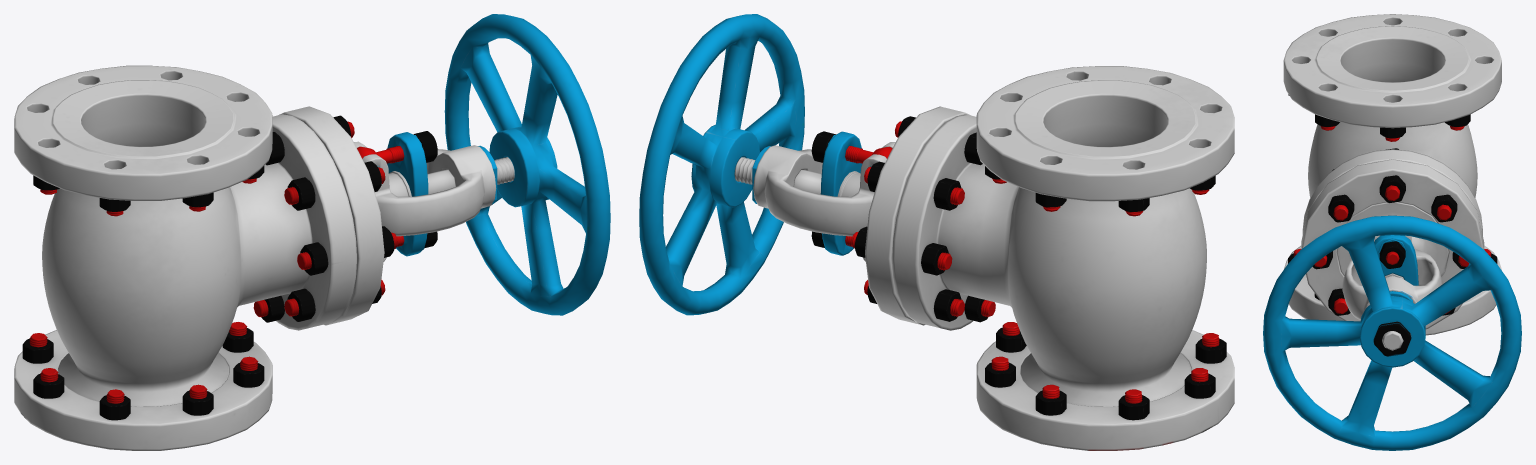
The picture shows the model from 3 angles, left to right: view 1: azimuth 30°, elevation 25°; view 2: azimuth 150°, elevation 25°; view 3: azimuth 270°, elevation 25°; orthographic projection. The views are drawn at different scales.
Visible parts, largest first — view 1: Industrial_Pipe_Valve_01.078, Industrial_Pipe_Valve_01.076, Industrial_Pipe_Valve_01.073, Industrial_Pipe_Valve_01.074, Industrial_Pipe_Valve_01.075, Industrial_Pipe_Valve_01.047, Industrial_Pipe_Valve_01.053, Industrial_Pipe_Valve_01.046, Industrial_Pipe_Valve_01.052, Industrial_Pipe_Valve_01.049, Industrial_Pipe_Valve_01.072, Industrial_Pipe_Valve_01.048 (+1 smaller); view 2: Industrial_Pipe_Valve_01.078, Industrial_Pipe_Valve_01.076, Industrial_Pipe_Valve_01.073, Industrial_Pipe_Valve_01.074, Industrial_Pipe_Valve_01.075, Industrial_Pipe_Valve_01.071, Industrial_Pipe_Valve_01.047, Industrial_Pipe_Valve_01.046, Industrial_Pipe_Valve_01.072, Industrial_Pipe_Valve_01.058, Industrial_Pipe_Valve_01.060, Industrial_Pipe_Valve_01.057 (+1 smaller); view 3: Industrial_Pipe_Valve_01.078, Industrial_Pipe_Valve_01.076, Industrial_Pipe_Valve_01.073, Industrial_Pipe_Valve_01.074, Industrial_Pipe_Valve_01.077, Industrial_Pipe_Valve_01.069, Industrial_Pipe_Valve_01.065, Industrial_Pipe_Valve_01.064, Industrial_Pipe_Valve_01.066, Industrial_Pipe_Valve_01.075, Industrial_Pipe_Valve_01.067.
Boxes of the visible parts, <box> form: Industrial_Pipe_Valve_01.078: <box>14,65,356,450</box>; Industrial_Pipe_Valve_01.076: <box>444,14,610,315</box>; Industrial_Pipe_Valve_01.073: <box>279,106,496,325</box>; Industrial_Pipe_Valve_01.074: <box>387,132,428,256</box>; Industrial_Pipe_Valve_01.075: <box>427,157,514,194</box>; Industrial_Pipe_Valve_01.047: <box>99,395,130,420</box>; Industrial_Pipe_Valve_01.053: <box>287,177,315,210</box>; Industrial_Pipe_Valve_01.046: <box>33,374,64,398</box>; Industrial_Pipe_Valve_01.052: <box>300,242,328,275</box>; Industrial_Pipe_Valve_01.049: <box>233,362,264,387</box>; Industrial_Pipe_Valve_01.072: <box>22,338,53,363</box>; Industrial_Pipe_Valve_01.048: <box>182,391,213,415</box>; Industrial_Pipe_Valve_01.078: <box>892,66,1234,450</box>; Industrial_Pipe_Valve_01.076: <box>639,14,804,315</box>; Industrial_Pipe_Valve_01.073: <box>753,106,970,325</box>; Industrial_Pipe_Valve_01.074: <box>820,131,862,255</box>; Industrial_Pipe_Valve_01.075: <box>734,157,821,194</box>; Industrial_Pipe_Valve_01.071: <box>1035,390,1066,415</box>; Industrial_Pipe_Valve_01.047: <box>1195,338,1226,363</box>; Industrial_Pipe_Valve_01.046: <box>1184,373,1215,398</box>; Industrial_Pipe_Valve_01.072: <box>1118,395,1149,420</box>; Industrial_Pipe_Valve_01.058: <box>933,289,961,321</box>; Industrial_Pipe_Valve_01.060: <box>933,178,961,210</box>; Industrial_Pipe_Valve_01.057: <box>921,243,948,275</box>; Industrial_Pipe_Valve_01.078: <box>1283,14,1501,335</box>; Industrial_Pipe_Valve_01.076: <box>1263,215,1521,450</box>; Industrial_Pipe_Valve_01.073: <box>1301,159,1484,329</box>; Industrial_Pipe_Valve_01.074: <box>1374,235,1418,285</box>; Industrial_Pipe_Valve_01.077: <box>1373,321,1411,356</box>; Industrial_Pipe_Valve_01.069: <box>1379,241,1405,268</box>; Industrial_Pipe_Valve_01.065: <box>1379,175,1405,202</box>; Industrial_Pipe_Valve_01.064: <box>1431,194,1457,222</box>; Industrial_Pipe_Valve_01.066: <box>1328,194,1354,222</box>; Industrial_Pipe_Valve_01.075: <box>1382,273,1403,350</box>; Industrial_Pipe_Valve_01.067: <box>1328,288,1350,315</box>.
Size of the model in its own units: 1.2 by 0.6172 by 0.6166.
1 material, 1 textured.
